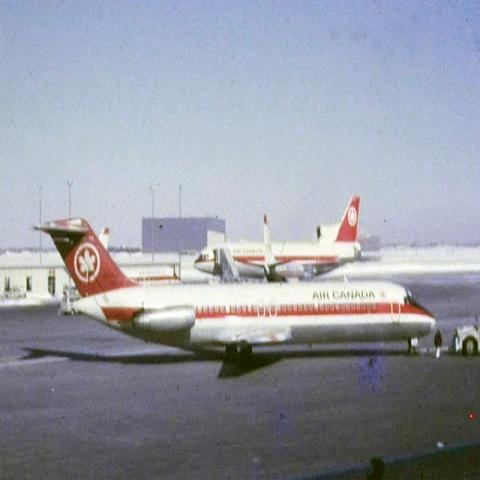car: (448, 323, 479, 360)
